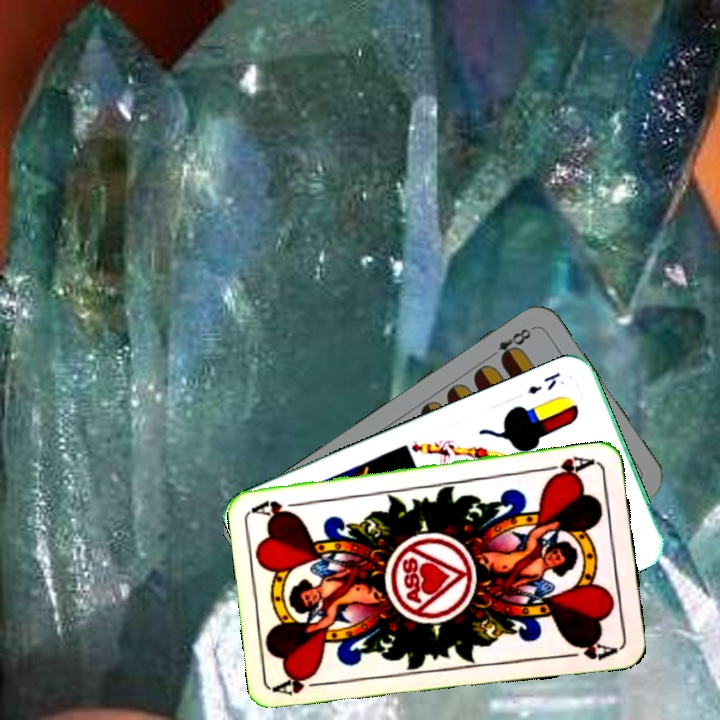E8: (483, 323, 536, 365)
EK: (524, 368, 563, 397)
HA: (539, 452, 598, 482), (272, 669, 332, 698)
